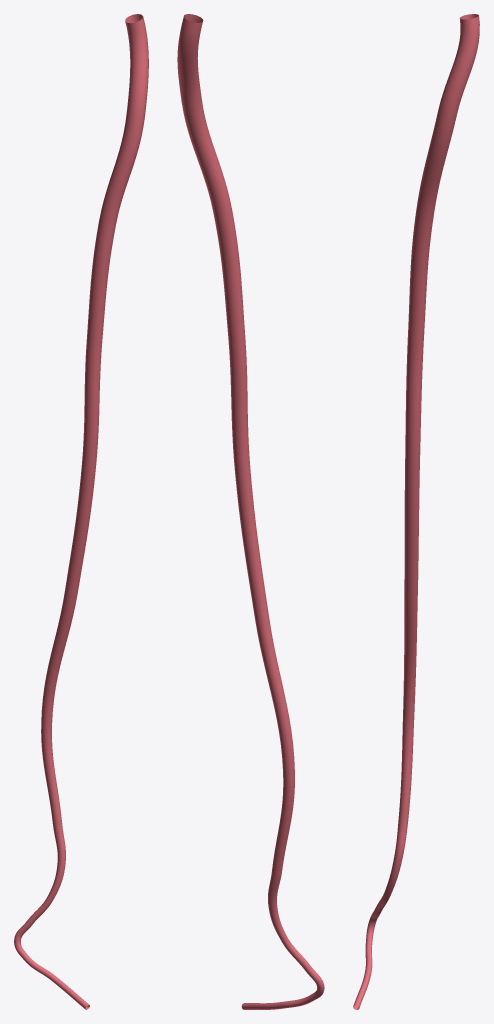
3 renders of one model, left to right at view 1: azimuth 30°, elevation 25°; view 2: azimuth 210°, elevation 25°; view 3: azimuth 330°, elevation 25°, orthographic. The views are drawn at different scales.
Parts seen in each view (by area): view 1: ZA_be9aa94fb6983224; view 2: ZA_be9aa94fb6983224; view 3: ZA_be9aa94fb6983224.
Boxes of the visible parts, left/top/right/bottom form: ZA_be9aa94fb6983224: left=14, top=14, right=148, bottom=1009; ZA_be9aa94fb6983224: left=177, top=14, right=324, bottom=1009; ZA_be9aa94fb6983224: left=353, top=14, right=479, bottom=1009.
Bounding box in the file's own units: 0.0438 × 0.3365 × 0.0315.
